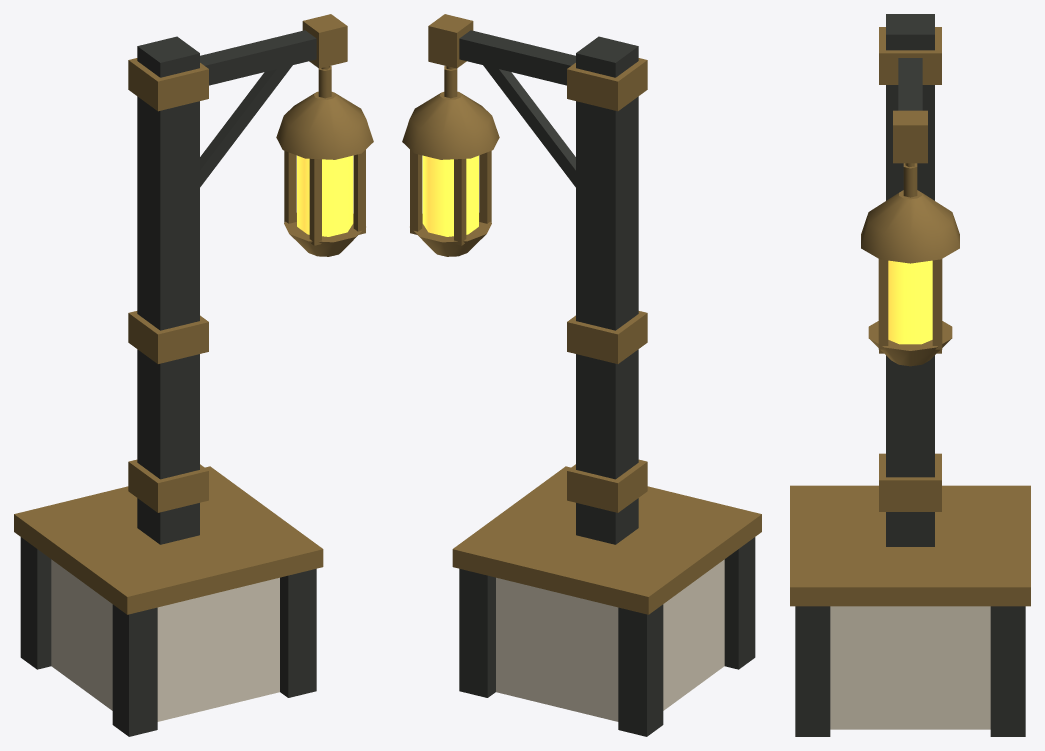
File: lamp_post.glb
The picture shows the model from 3 angles, left to right: view 1: azimuth 30°, elevation 25°; view 2: azimuth 150°, elevation 25°; view 3: azimuth 270°, elevation 25°; orthographic projection. The views are drawn at different scales.
Parts seen in each view (by area): view 1: lamp_post; view 2: lamp_post; view 3: lamp_post.
Part boxes in pixels (x1,y1,x2,y2): lamp_post: (14,14,373,736); lamp_post: (402,14,761,736); lamp_post: (790,14,1030,736).
Bounding box in the file's own units: 1.04 × 2.1 × 0.69.
